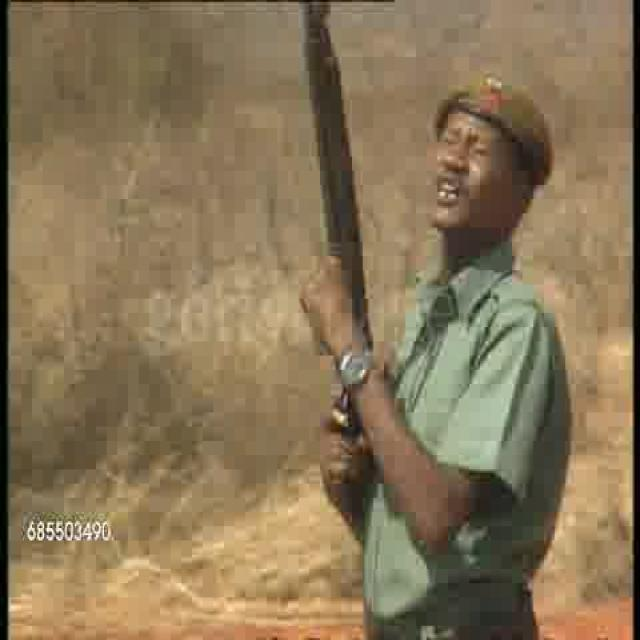poacher: (378, 60, 582, 602)
weapon: (302, 3, 378, 486)
